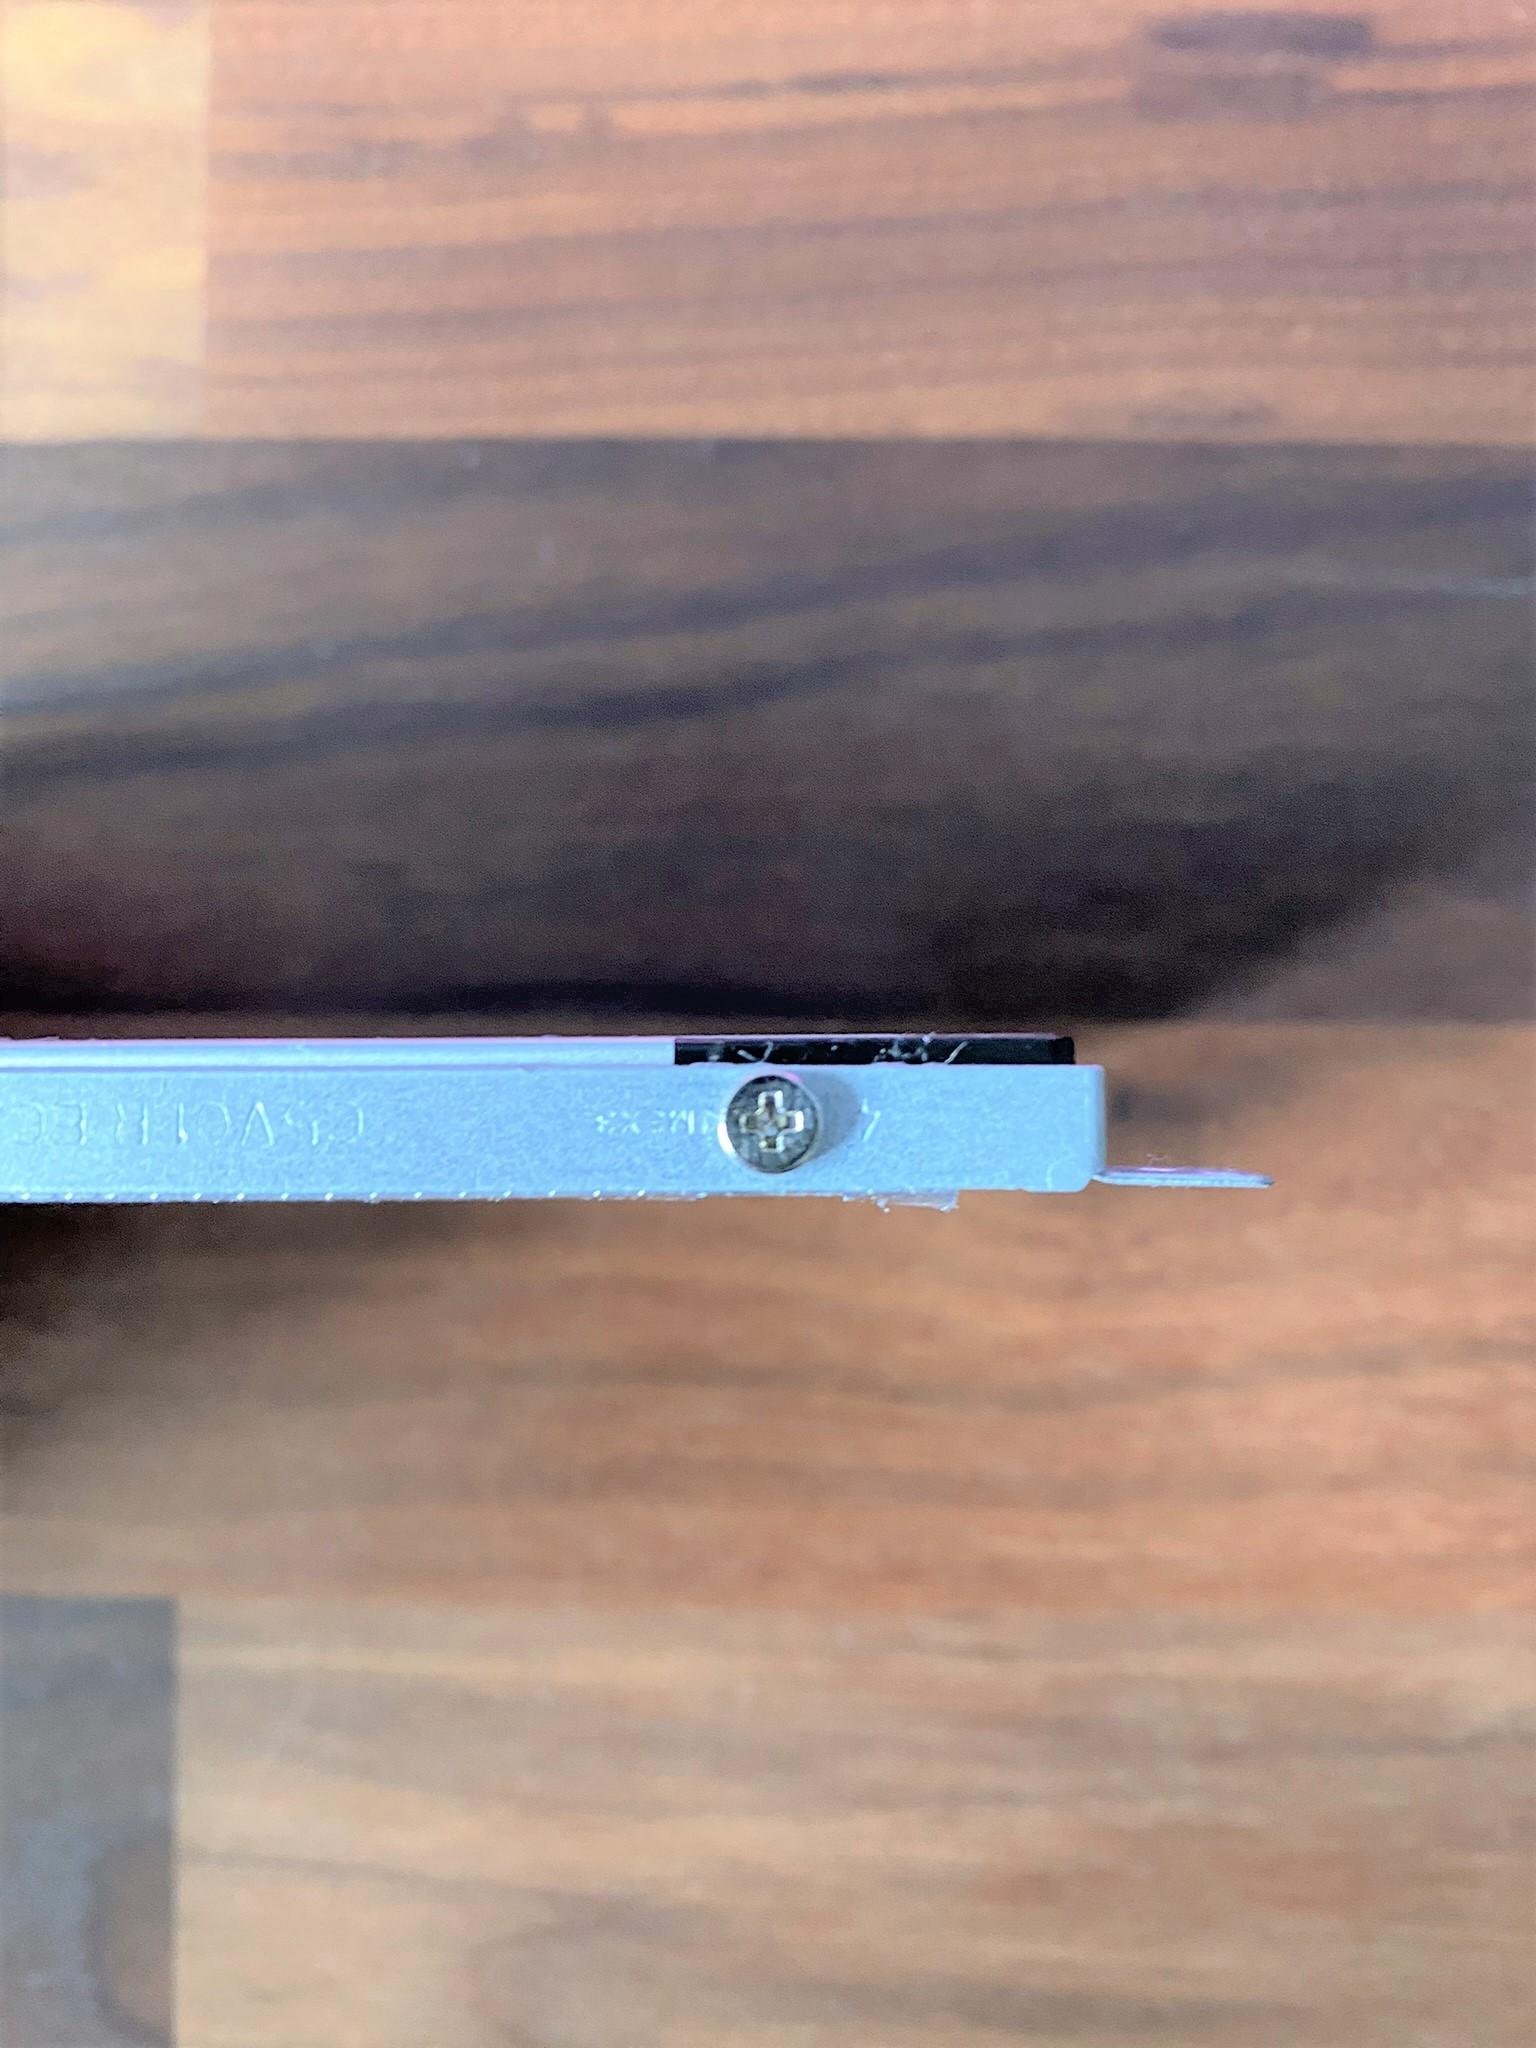PH: (715, 1071, 828, 1177)
